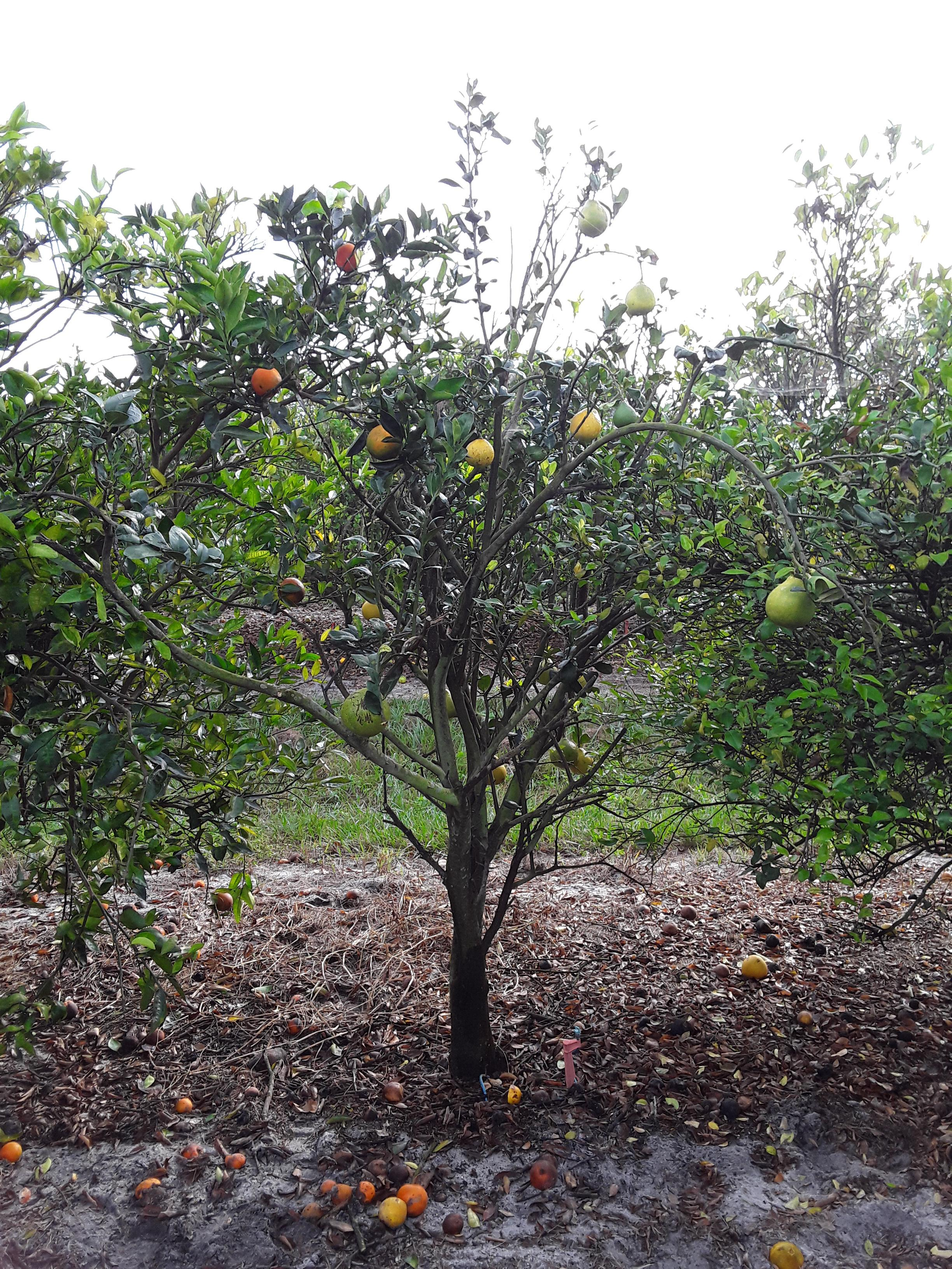fruit_on_ground: (763, 567, 820, 628), (340, 682, 388, 741), (364, 422, 408, 465), (623, 271, 660, 318), (576, 196, 612, 239), (250, 362, 287, 399), (567, 404, 605, 440), (275, 571, 309, 611), (464, 436, 499, 468), (434, 685, 467, 717), (551, 729, 576, 769), (480, 756, 512, 787), (613, 392, 640, 428), (333, 237, 360, 269), (532, 653, 560, 683), (573, 745, 598, 775), (362, 601, 387, 624), (213, 890, 236, 911)
fruit_on_tree: (401, 1175, 434, 1218), (769, 1239, 811, 1269), (380, 1079, 414, 1110), (380, 1196, 410, 1230), (528, 1161, 561, 1188), (133, 1176, 164, 1202), (0, 1140, 32, 1165), (742, 953, 770, 980), (442, 1213, 471, 1236), (665, 1018, 697, 1038), (504, 1083, 532, 1105), (329, 1182, 352, 1207), (718, 1097, 744, 1119), (356, 1178, 376, 1205), (224, 1151, 250, 1171), (281, 1016, 306, 1035), (679, 904, 701, 925), (366, 1158, 388, 1179), (388, 1166, 412, 1185), (345, 885, 365, 906), (182, 1146, 208, 1162), (810, 940, 833, 958), (312, 984, 336, 1000), (796, 1008, 816, 1026), (145, 1026, 165, 1044), (660, 919, 679, 937), (713, 963, 732, 981), (318, 1177, 337, 1195), (753, 917, 774, 933), (120, 1035, 143, 1049), (879, 923, 901, 937), (898, 1026, 915, 1044), (533, 1089, 552, 1105), (303, 1206, 322, 1222), (759, 934, 779, 949), (178, 1096, 194, 1114), (634, 904, 655, 917), (63, 1001, 79, 1017), (878, 898, 895, 913), (907, 995, 922, 1012), (289, 993, 309, 1005), (538, 956, 555, 970), (244, 1085, 261, 1098), (164, 920, 179, 934), (635, 985, 650, 998), (192, 971, 208, 983), (737, 898, 751, 911), (625, 887, 641, 898), (152, 857, 165, 870), (800, 936, 815, 947), (194, 879, 208, 890), (168, 914, 178, 927), (908, 891, 920, 900), (637, 1016, 648, 1025)
